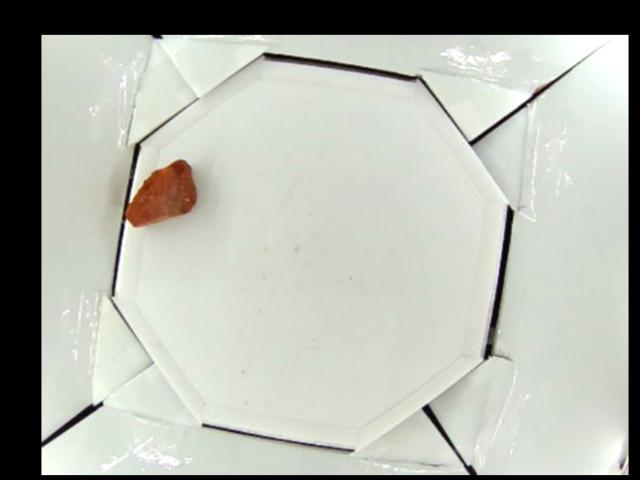Brisk: (121, 157, 198, 228)
